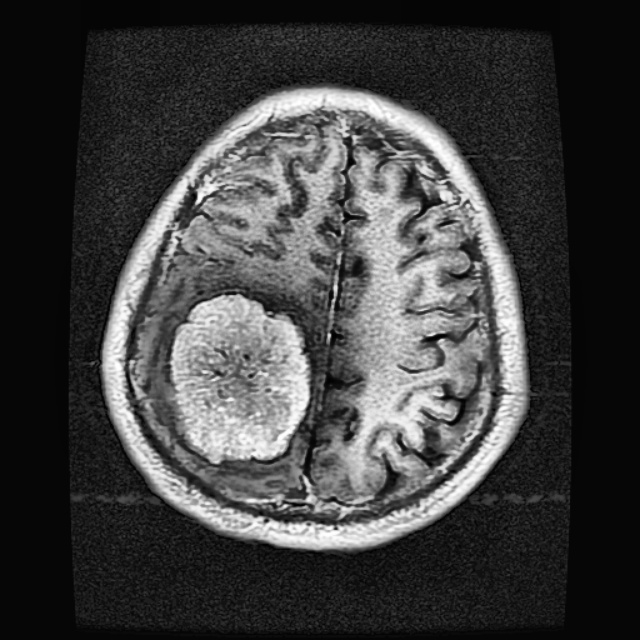Pituitary: (172, 294, 310, 462)
